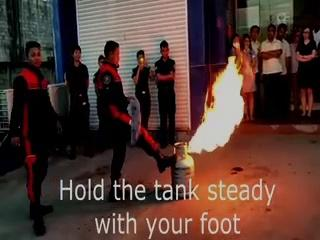Fire: (186, 44, 254, 154)
